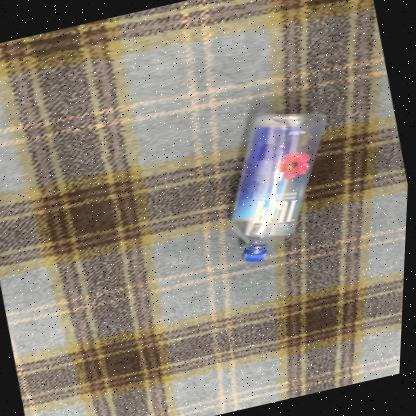Plastic: (232, 112, 326, 261)
